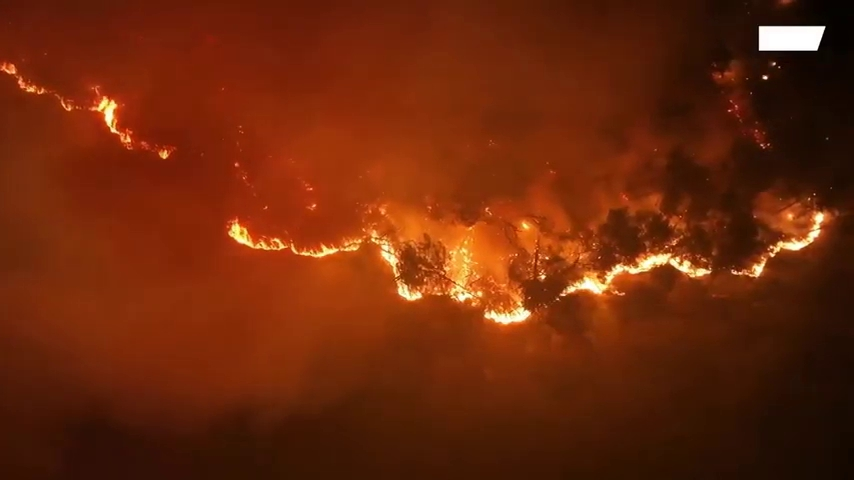forest_fire: (0, 62, 173, 158), (228, 219, 399, 272), (561, 253, 711, 294), (733, 212, 825, 277), (485, 304, 531, 323), (448, 285, 482, 301), (397, 282, 423, 300), (454, 247, 472, 266)
